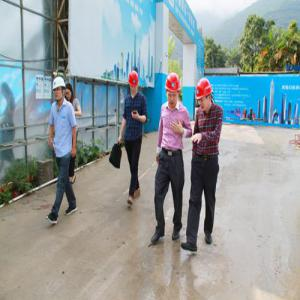none: (65, 82, 74, 102)
red: (197, 79, 213, 112), (166, 73, 180, 109), (128, 71, 140, 93)
white: (52, 76, 66, 101)
